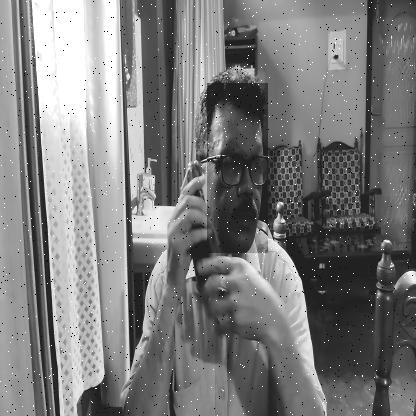Distracted: (207, 84, 268, 254)
